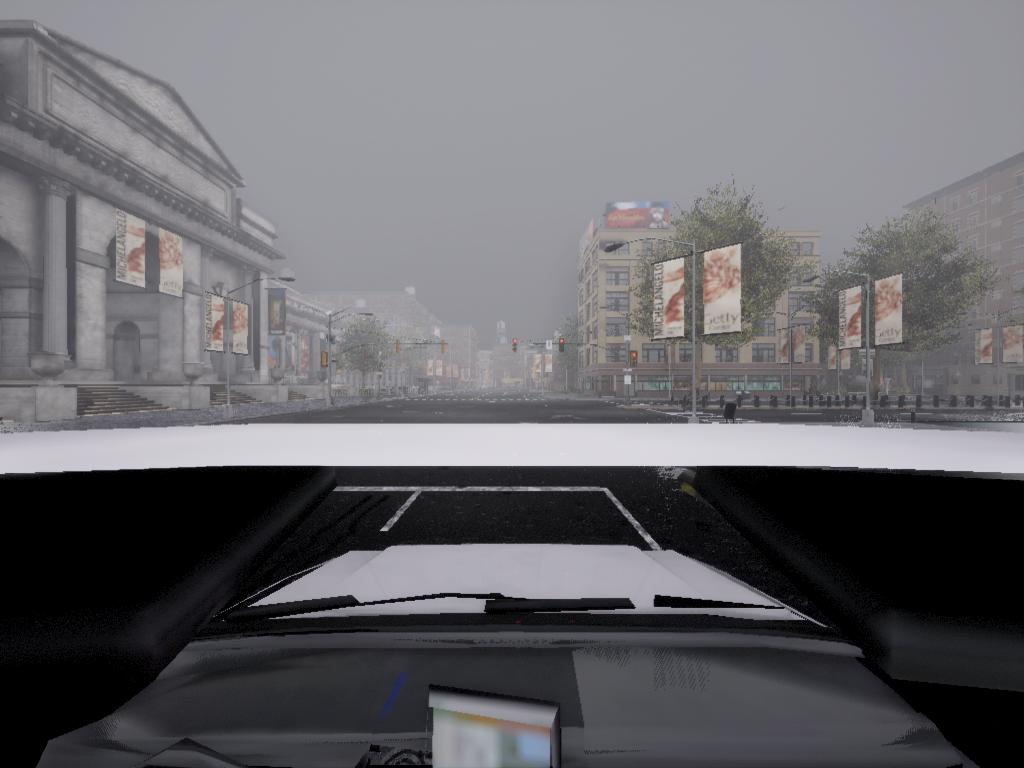traffic_light: (631, 351, 639, 369), (511, 341, 518, 355), (323, 354, 329, 368), (560, 340, 565, 353), (396, 341, 401, 354), (442, 341, 446, 353)
